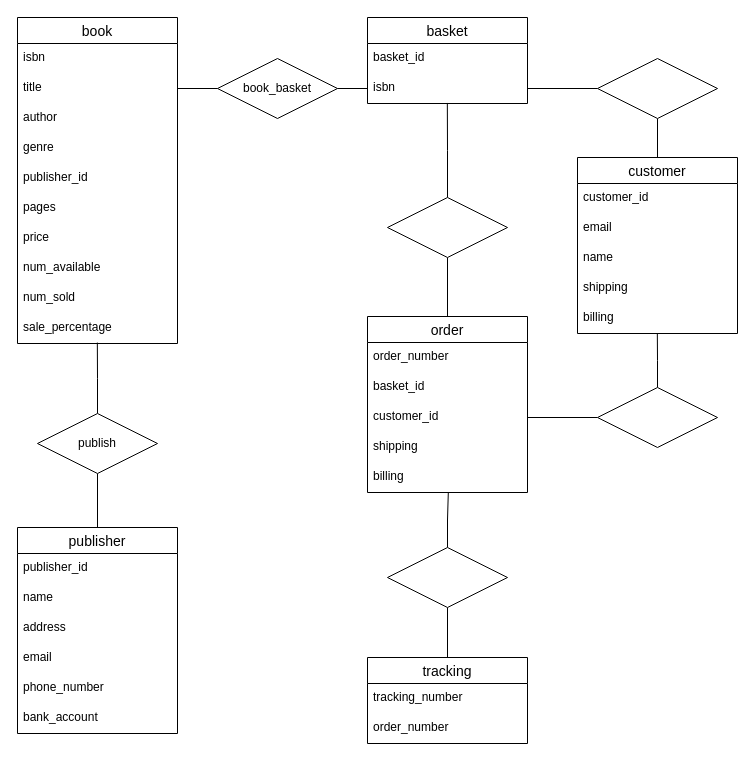
The diagram is 755 pixels wide and 764 high, and some of its shapes have lost their labels. Here are the shapes that lost their labels. From the top down, the centre of each, then its label:
(x=657, y=88): own
(x=447, y=227): basket_order
(x=657, y=417): place
(x=447, y=577): generate
